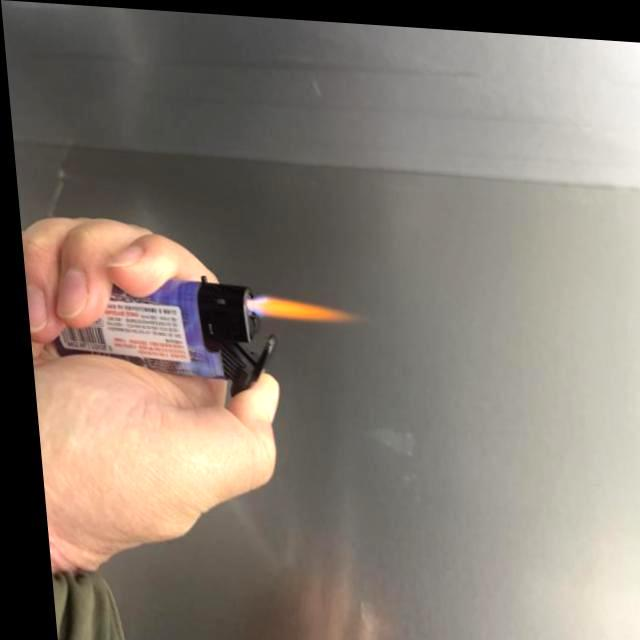fire: (243, 290, 353, 318)
